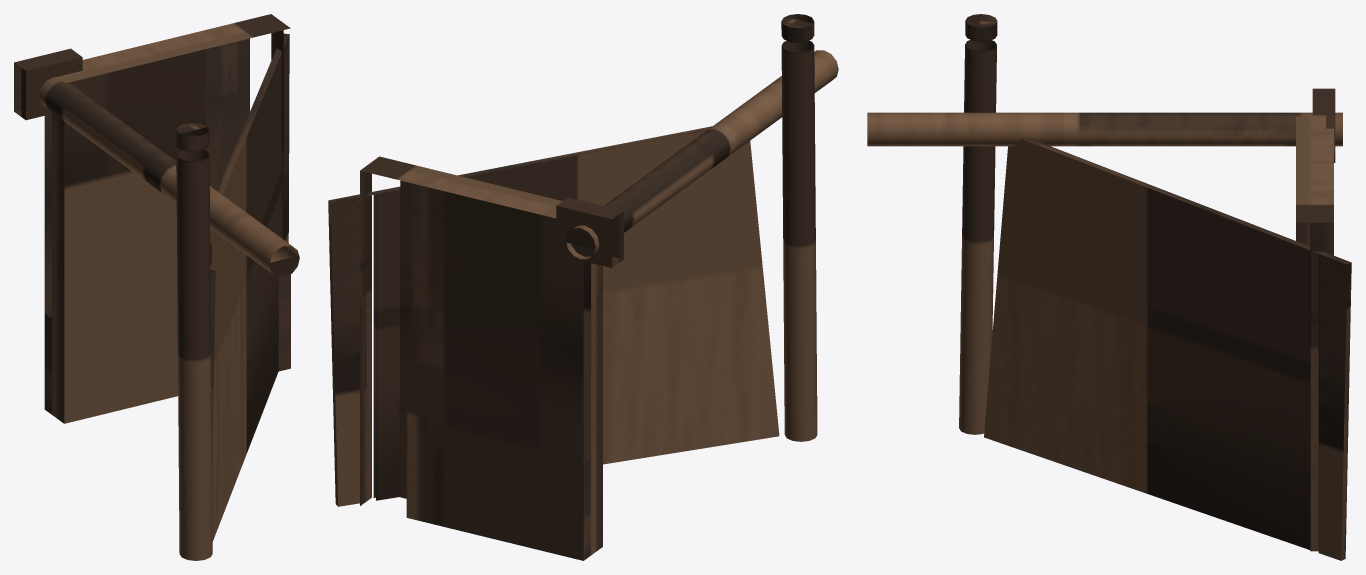
File: section-2.obj
3 renders of one model, left to right at view 1: azimuth 30°, elevation 25°; view 2: azimuth 150°, elevation 25°; view 3: azimuth 270°, elevation 25°, orthographic. The views are drawn at different scales.
Bounding box in the file's own units: 0.9852 × 1.32 × 1.42.
